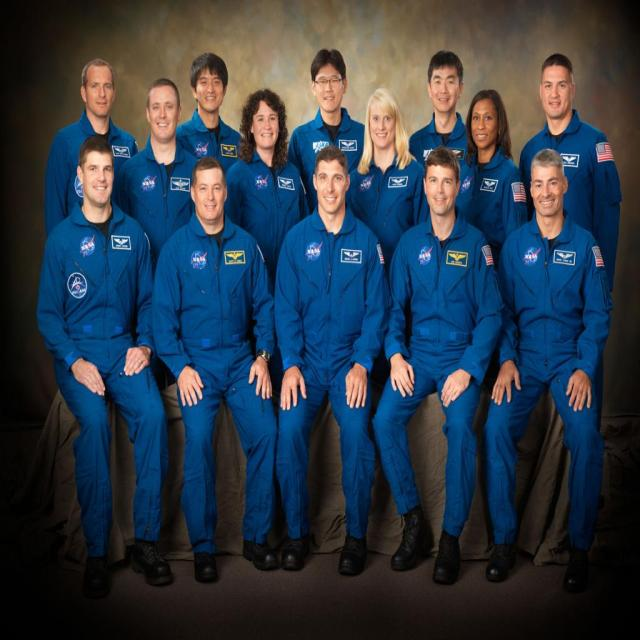Face: (361, 86, 406, 169), (533, 54, 579, 133), (526, 156, 573, 230), (300, 49, 352, 115), (248, 86, 292, 161), (76, 150, 120, 221), (147, 76, 188, 149), (81, 51, 118, 128), (191, 56, 231, 126), (464, 86, 508, 149), (421, 158, 464, 220), (316, 158, 357, 219), (190, 169, 229, 226), (430, 52, 466, 113)
